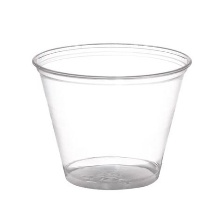glass: (14, 35, 194, 194)
